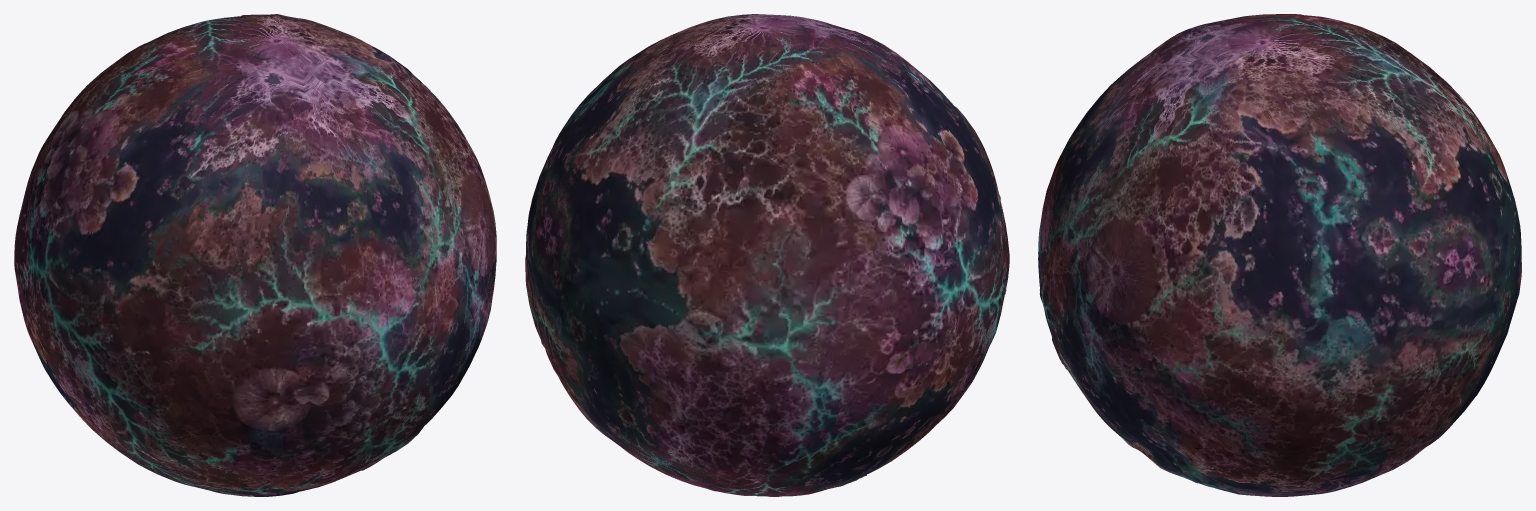
File: planet_14.glb
3 views of the same model, side by side, from view 1: azimuth 30°, elevation 25°; view 2: azimuth 150°, elevation 25°; view 3: azimuth 270°, elevation 25° (orthographic).
Parts seen in each view (by area): view 1: Mesh_0.001; view 2: Mesh_0.001; view 3: Mesh_0.001.
Part boxes in pixels (x1,y1,x2,y2): Mesh_0.001: [14, 14, 496, 496]; Mesh_0.001: [525, 14, 1009, 496]; Mesh_0.001: [1038, 14, 1521, 496].
Size of the model in its own units: 1.9 by 1.9 by 1.9.
Materials: 1 (1 with a texture image).
